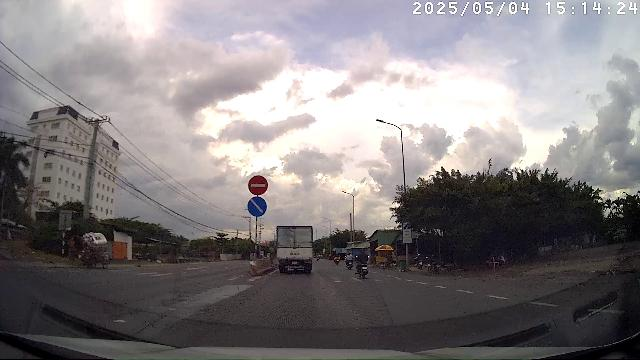102-cam-di-nguoc-chieu: (247, 175, 268, 195)
302a-huong-phai-di-vong-chuong-ngai-vat-1: (247, 195, 267, 217)
